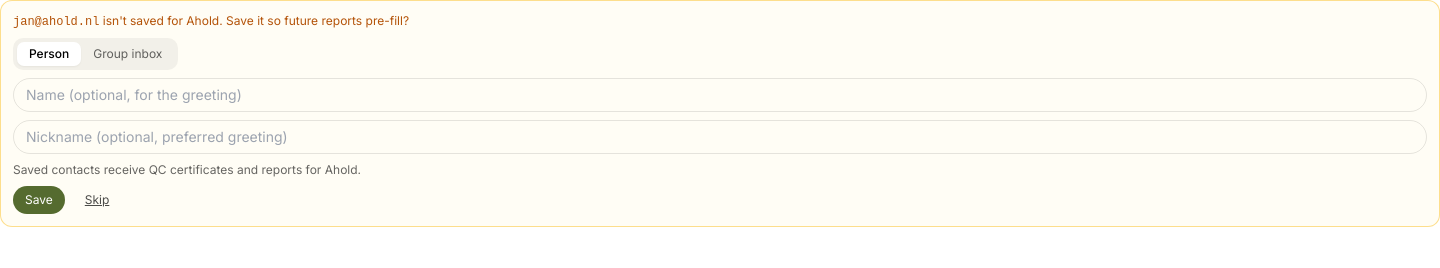
Scenario: SaveContactPrompt › keeps the panel open with the server message when the save fails
This screenshot has width=1440, height=268.
Click the button "Save". click: {"x": 39, "y": 200}
box: [13,186,65,214]
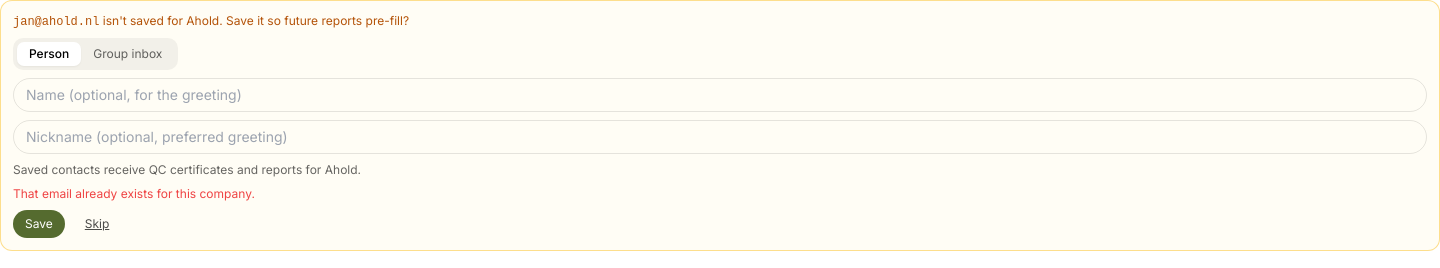
Expected: the button "Save" is shown, [13,210,65,238]
Expected: the text "That email already exists for this company." is shown, [13,186,255,201]
